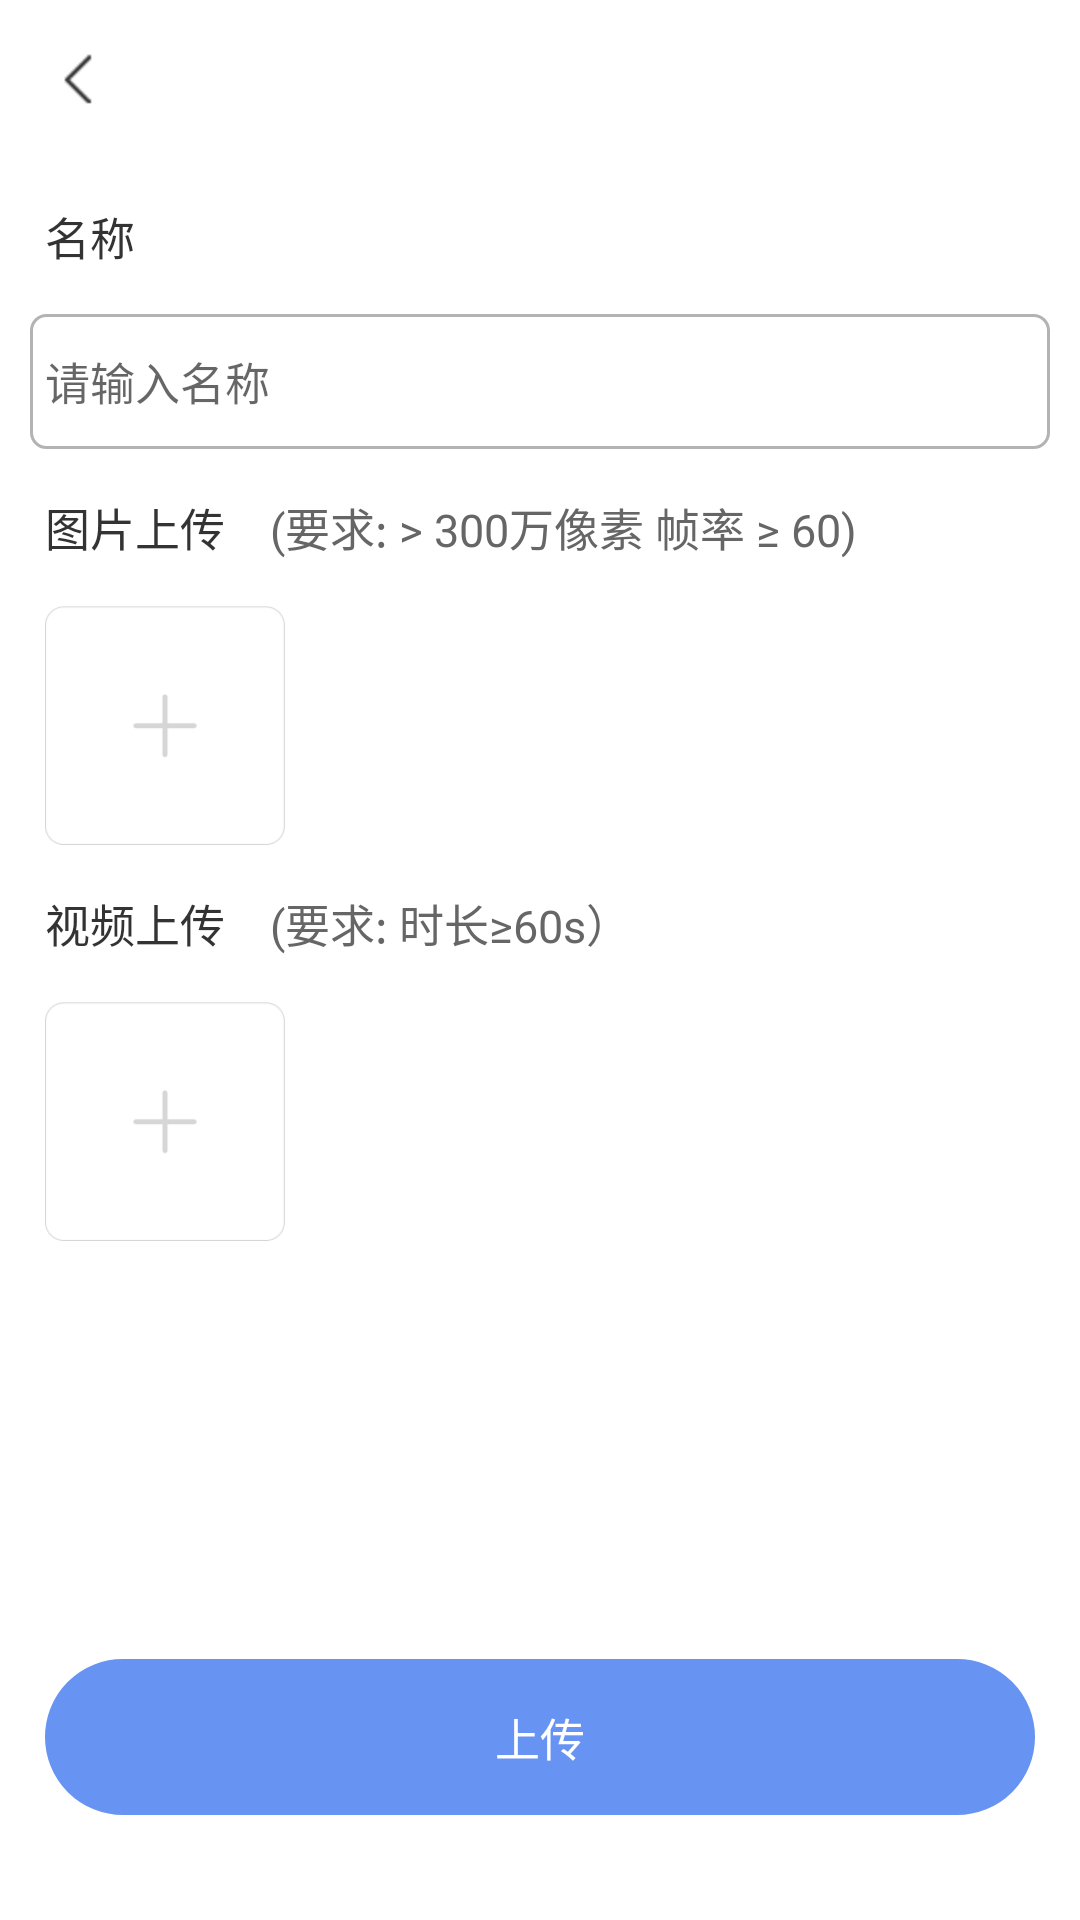

Where to tap for icons on this 1080*1920 app screen, as point (x, y):
back: point (78, 79)
